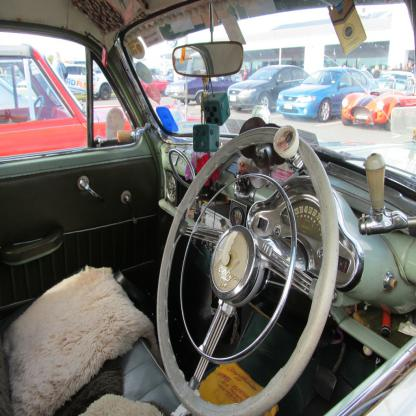Car: (8, 25, 384, 416), (0, 41, 416, 161)
